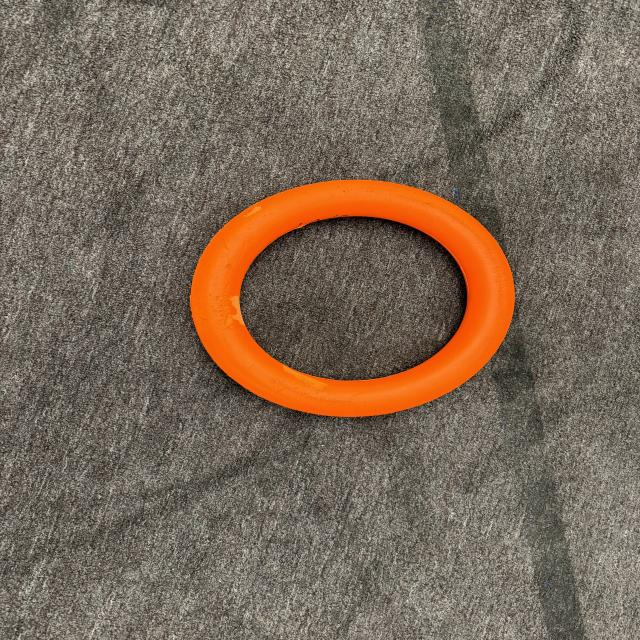note: (177, 170, 542, 432)
